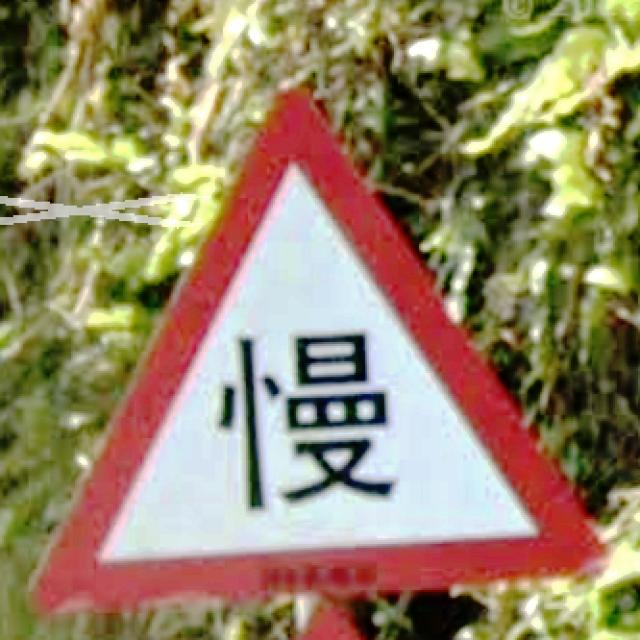slow: (27, 88, 611, 613)
